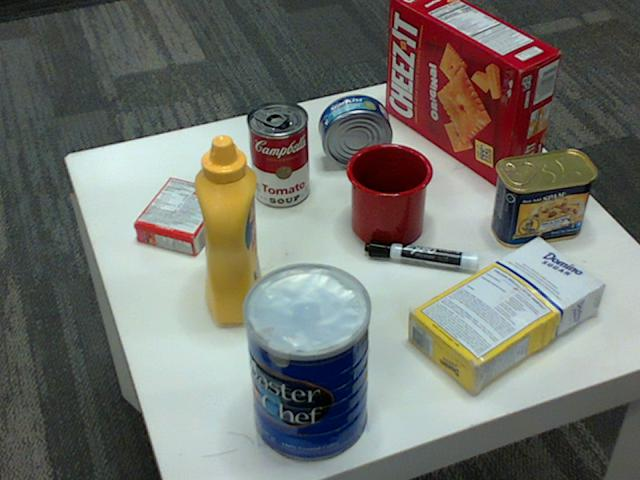cracker_box: (385, 0, 560, 188)
gelatin_box: (131, 174, 227, 253)
large_marker: (365, 240, 479, 275)
master_chef_can: (241, 265, 370, 464)
mug: (343, 142, 431, 247)
mustard_bottle: (192, 135, 261, 323)
potted_meat_can: (490, 151, 595, 248)
sugar_box: (405, 236, 602, 395)
tomato_soup_can: (246, 101, 308, 208)
tuna_fish_can: (317, 94, 391, 168)
